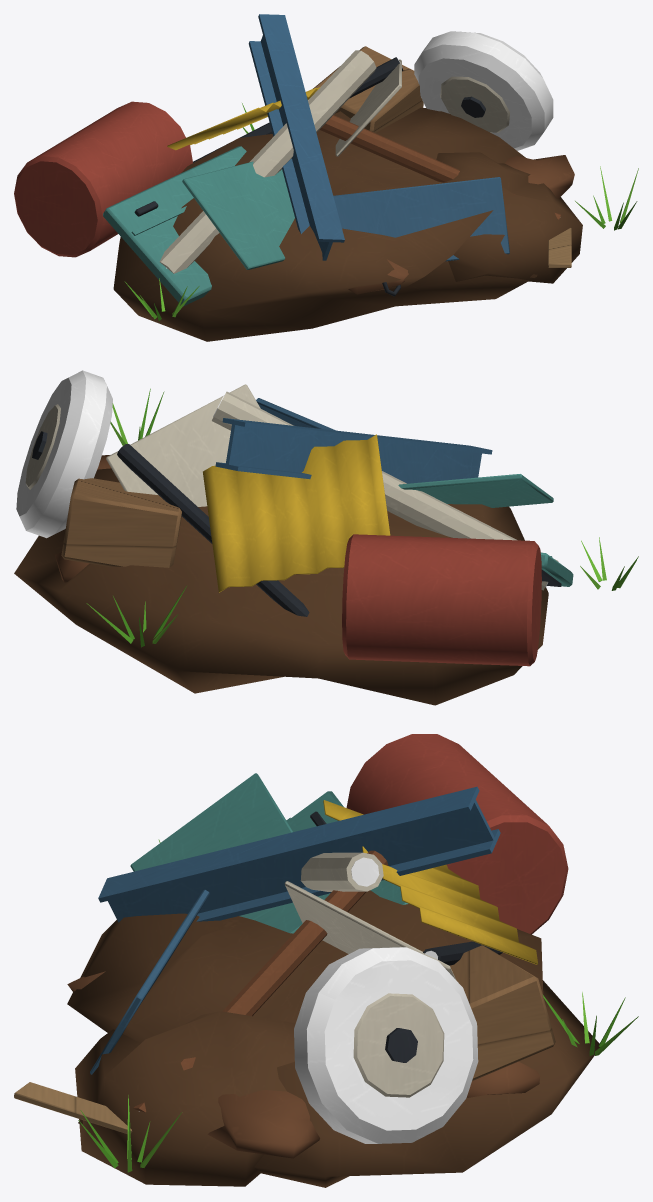
Rendered from scrap_heap_mixed.glb.
3 renders of one model, top to bottom at view 1: azimuth 30°, elevation 25°; view 2: azimuth 150°, elevation 25°; view 3: azimuth 270°, elevation 25°, orthographic. The views are drawn at different scales.
Visible parts, largest first — view 1: scrap_heap_mixed; view 2: scrap_heap_mixed; view 3: scrap_heap_mixed.
Part boxes in pixels (bbox=[...]): scrap_heap_mixed: bbox=[14, 14, 638, 341]; scrap_heap_mixed: bbox=[14, 370, 638, 705]; scrap_heap_mixed: bbox=[14, 734, 638, 1187].
Bounding box in the file's own units: 2.95 × 1.35 × 2.38.
Materials: 24 (24 with a texture image).
